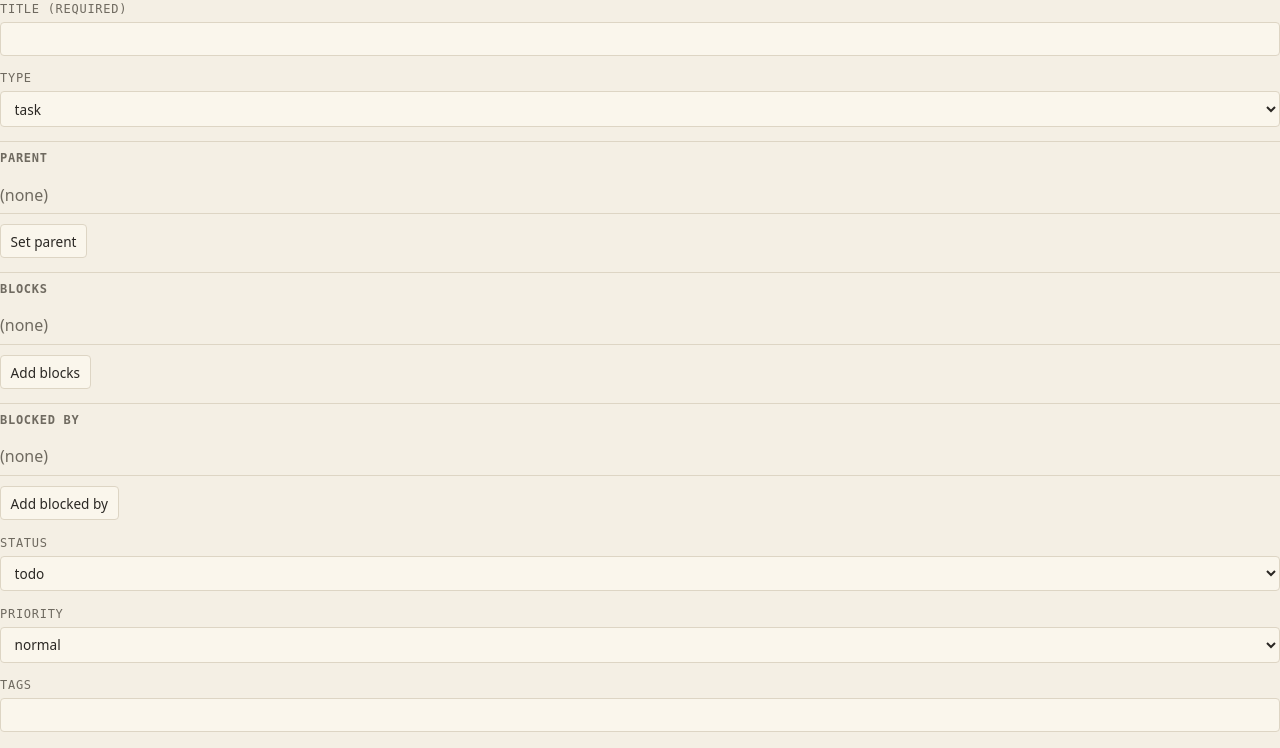
Test case: CreateBeanForm › drops a bean from its own picker once chosen, so it cannot be added twice
Click the button "Add blocks" at (45, 372), box [0,355,90,389]
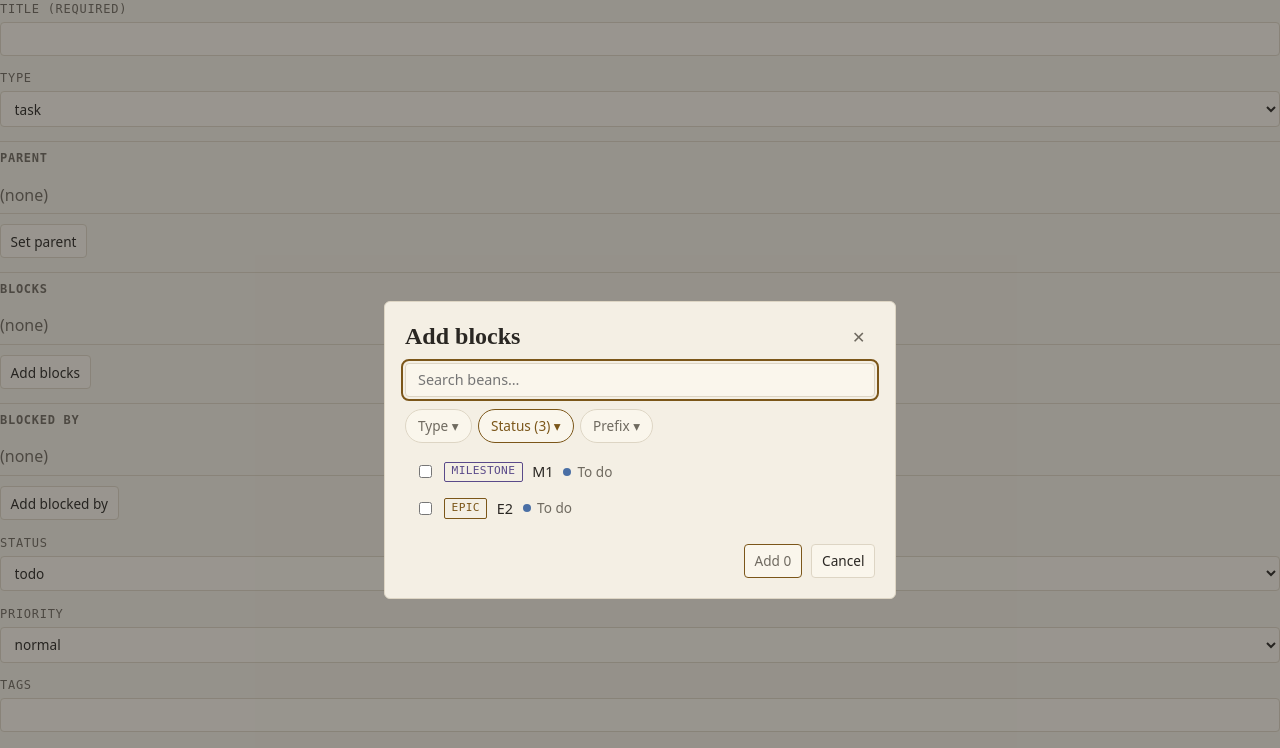
Click the text "M1" at (543, 472), box [532,461,554,482]
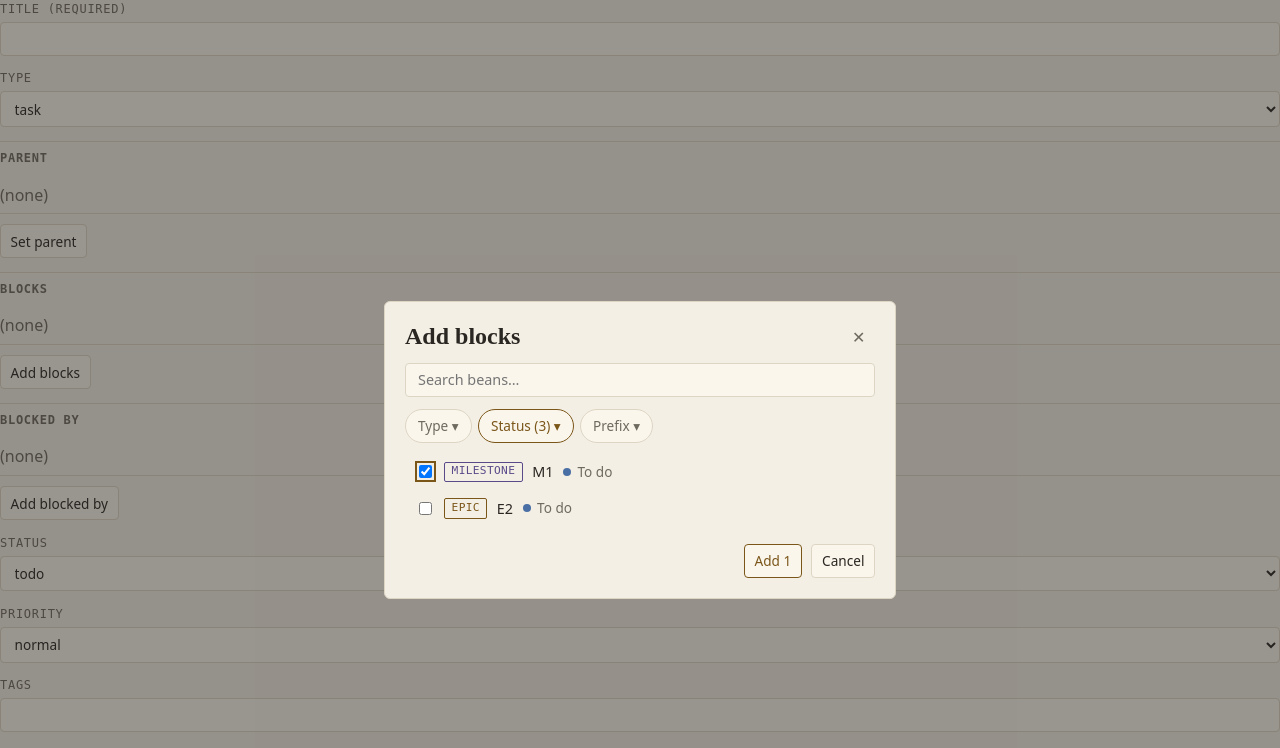
Click the button "Add 1" at (773, 561), box [744,544,802,578]
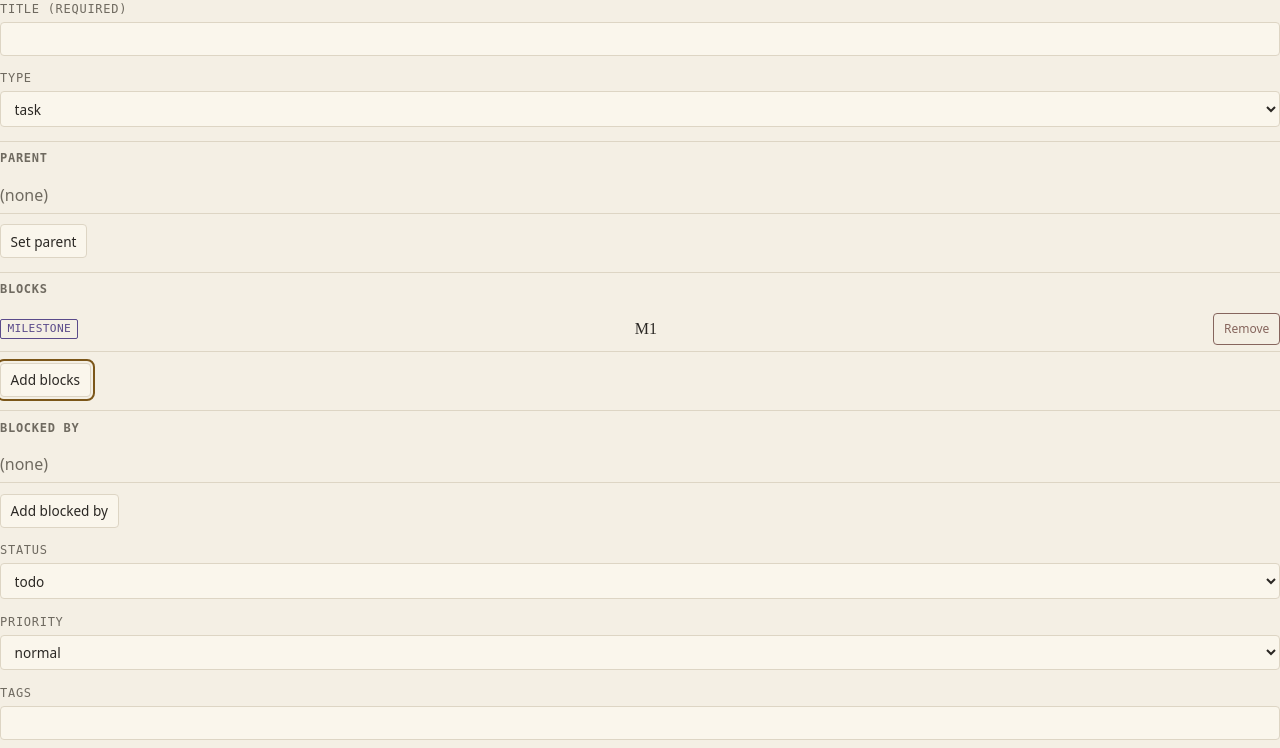
Click the button "Add blocks" at (45, 380), box [0,363,90,397]
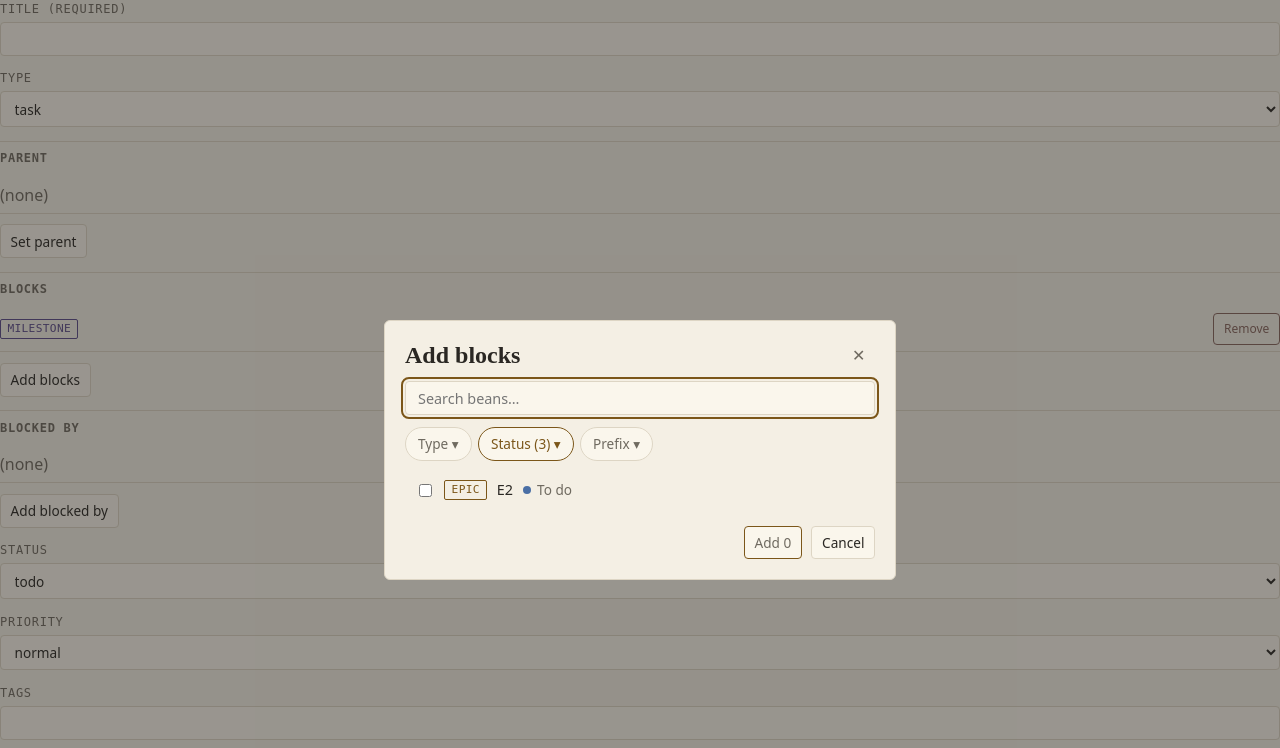
expect the text "E2" is shown: met, box [497,479,513,501]
